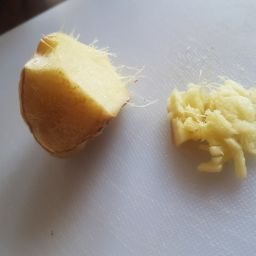Minced ginger: (4, 9, 256, 194), (11, 23, 147, 166), (158, 56, 256, 181)
